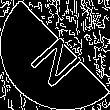N_NE: (23, 23, 87, 87)
